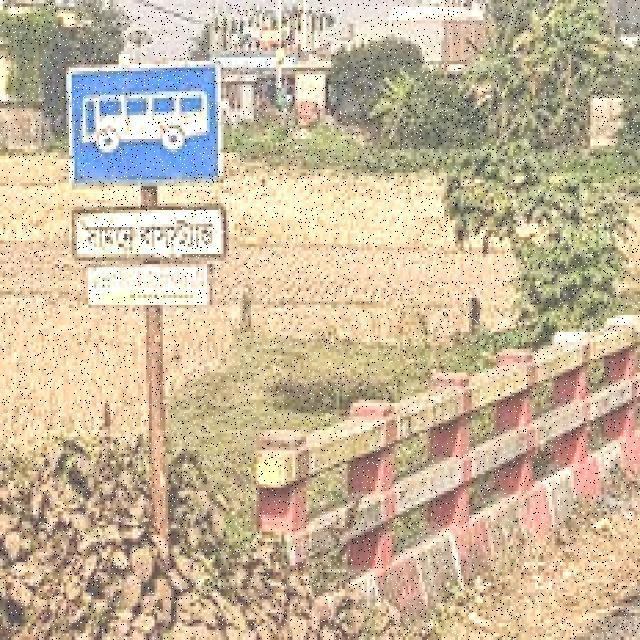Ahead-the-bus-station: (57, 56, 242, 322)
